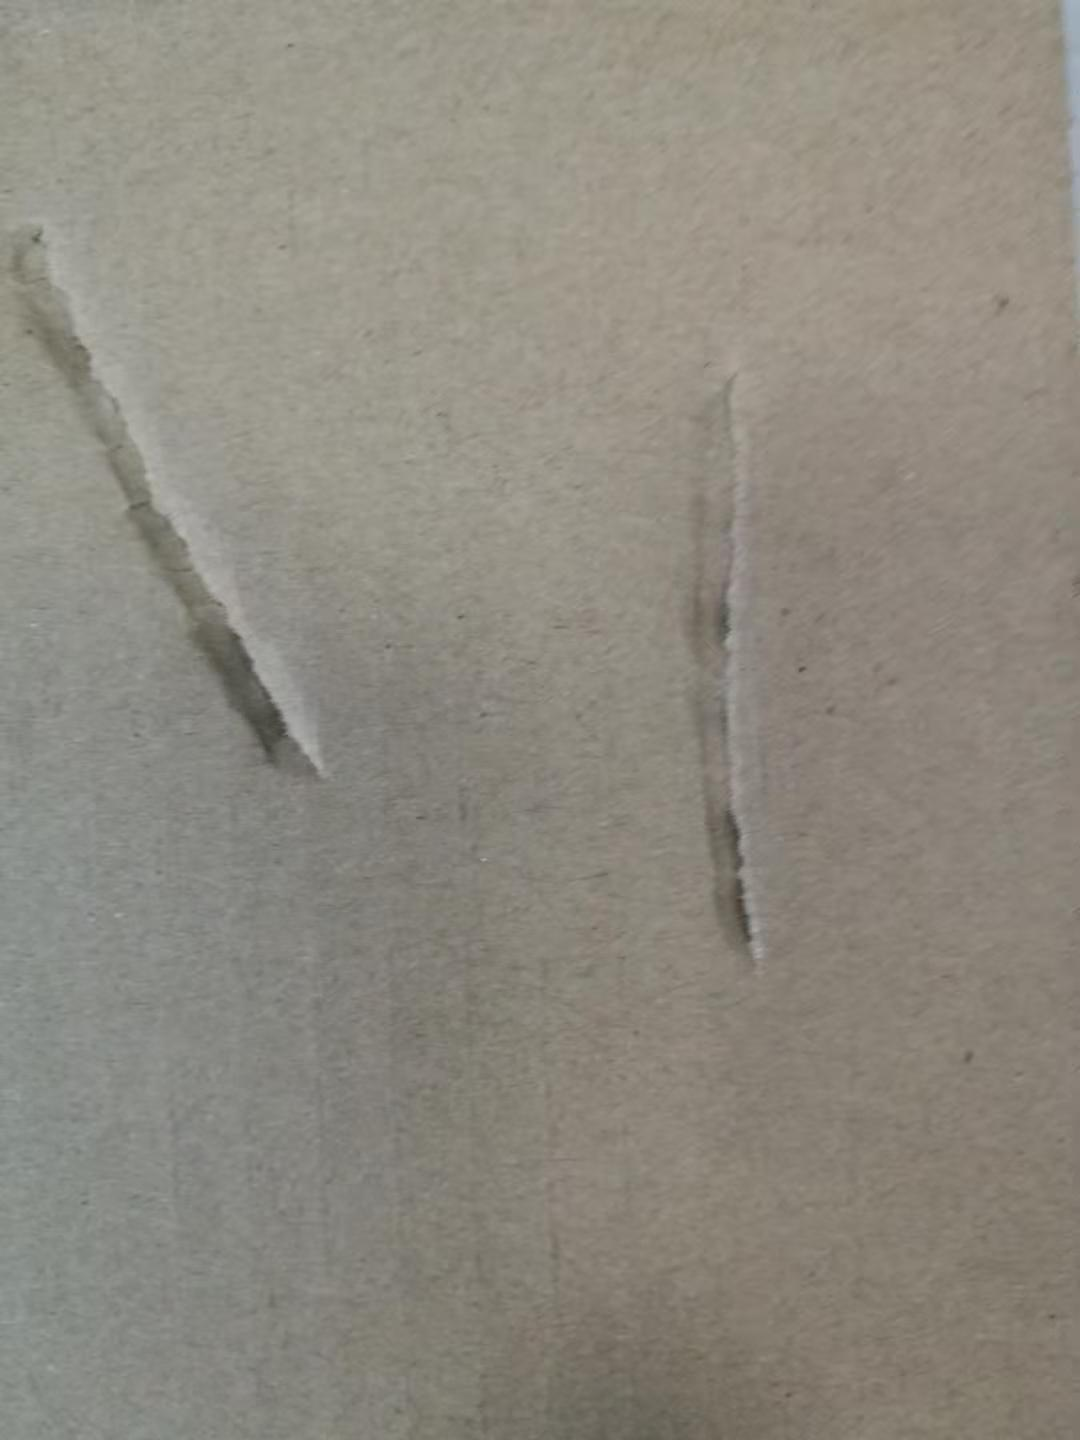defect: (1, 188, 362, 818), (638, 345, 805, 1013)
